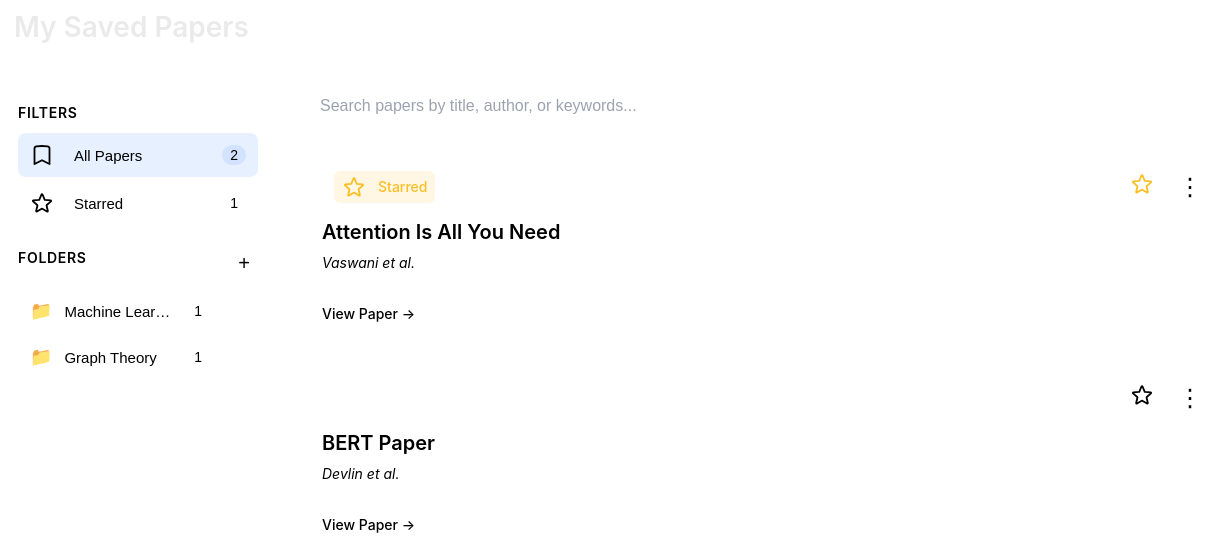
PersonalPage › search functionality › should clear search when clear button is clicked
Type "test" into the field with placeholder "Search papers by title, author, or keywords..." at (766, 106), box [318,96,1214,116]
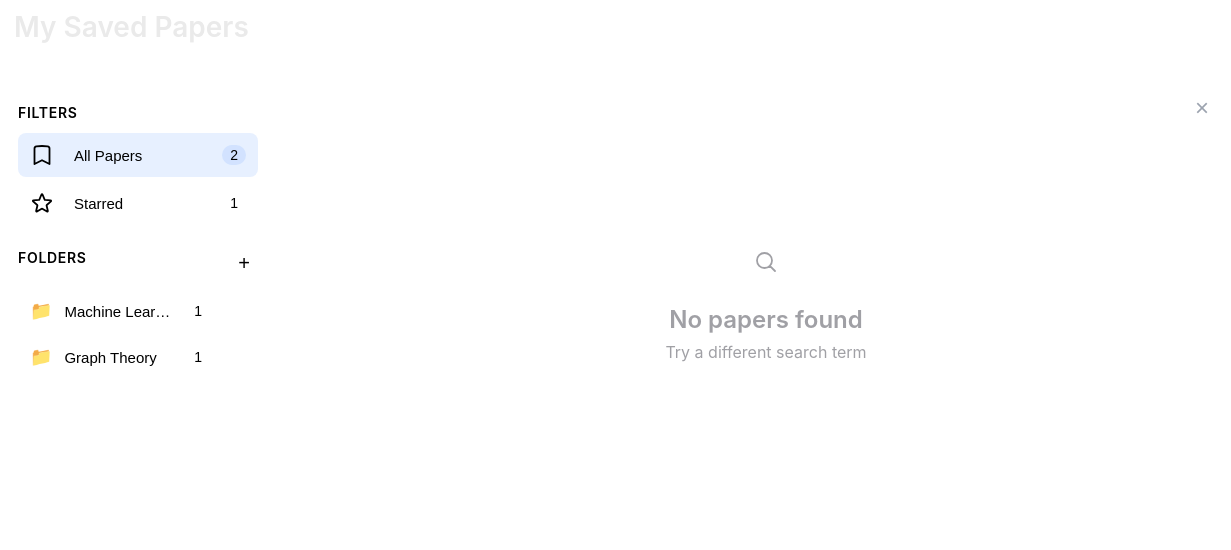
Click the button "×" at (1202, 108), box [1190,96,1214,120]
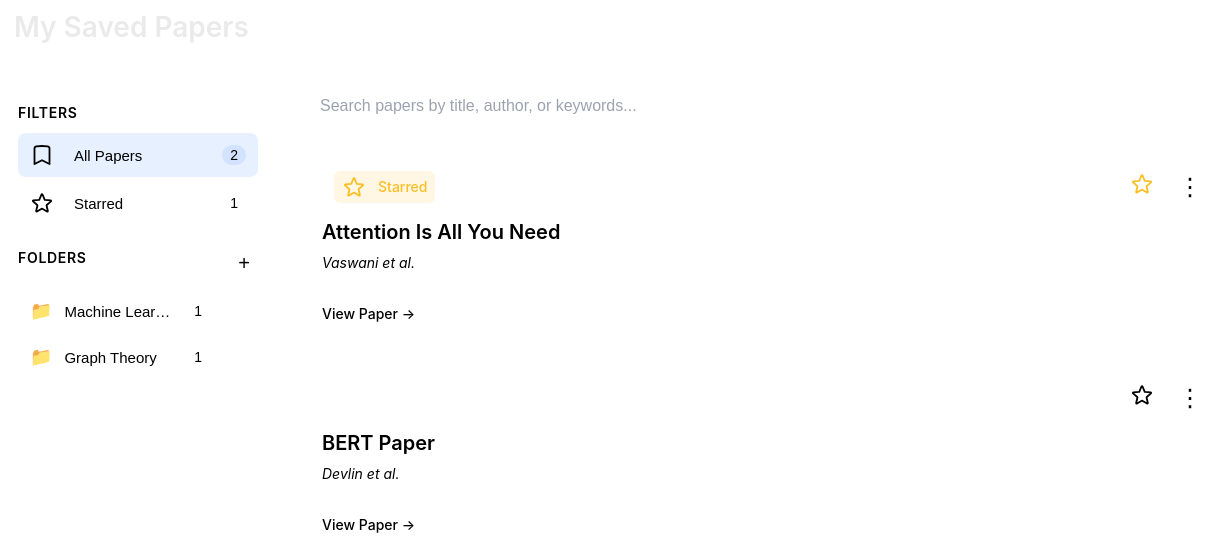
Expected: the field with placeholder "Search papers by title, author, or keywords..." is empty, [318,96,1214,116]
